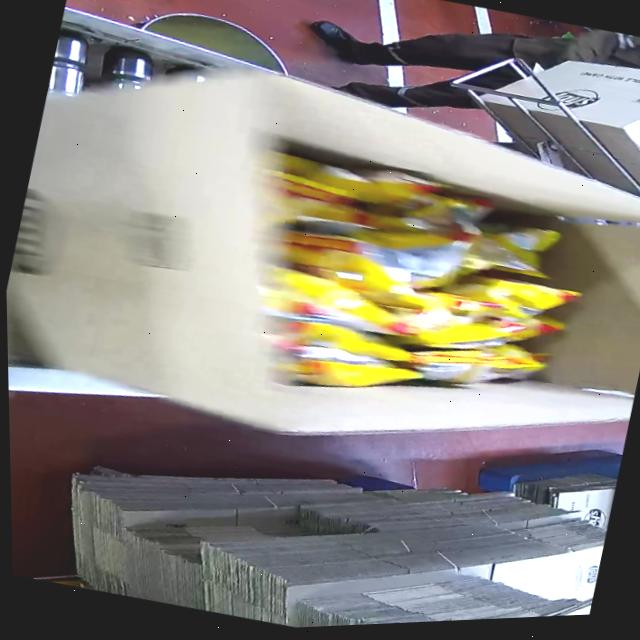SALTED: (260, 136, 596, 442)
